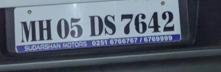0: (56, 17, 70, 40)
2: (161, 10, 176, 34)
4: (148, 12, 161, 35)
5: (68, 15, 84, 40)
7: (120, 13, 135, 35)
D: (86, 13, 105, 38)
H: (36, 18, 55, 41)
M: (18, 18, 38, 43)
S: (103, 14, 119, 36), (135, 13, 147, 34)
